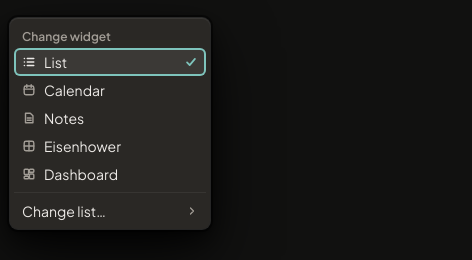
Test case: WidgetKindMenu — Change list submenu › says so when there are no lists
Click the menu item "Change list…" at (110, 211), box [14,197,206,225]
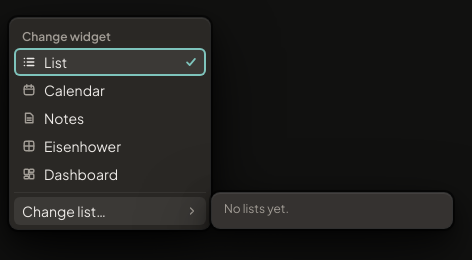
Check: the menu named "Change list…" reads "No lists yet.", box [224,201,289,216]
